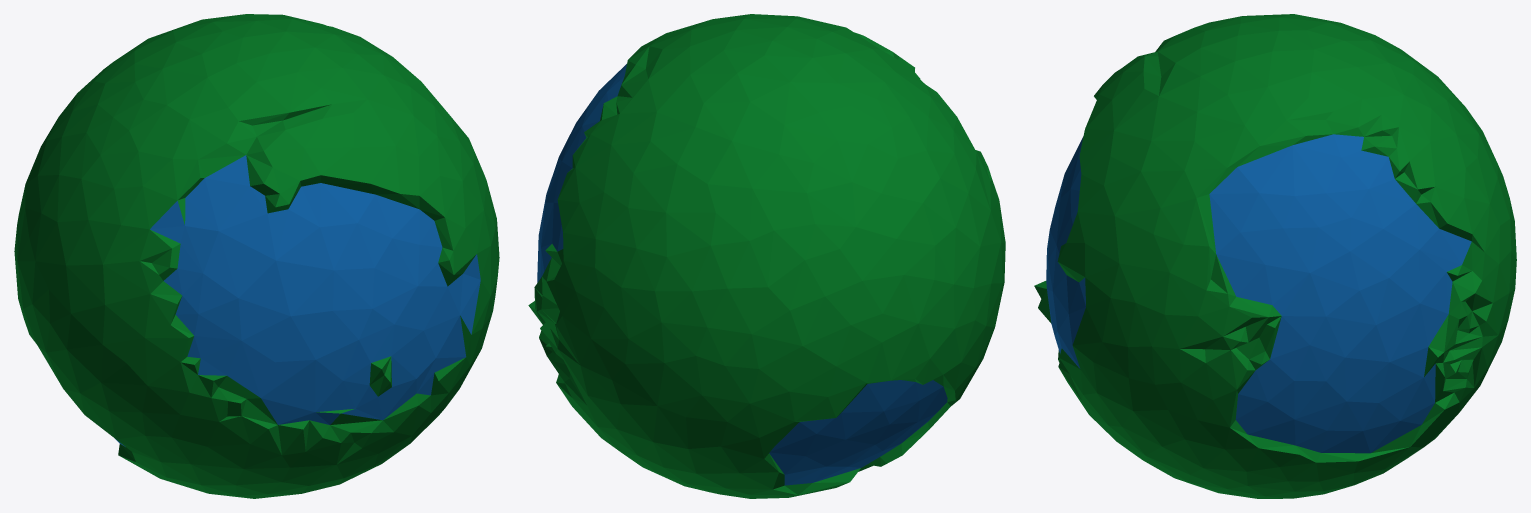
The model's file is Planet 12.FBX.
3 renders of one model, left to right at view 1: azimuth 30°, elevation 25°; view 2: azimuth 150°, elevation 25°; view 3: azimuth 270°, elevation 25°, orthographic.
Visible parts, largest first — view 1: Planet 12; view 2: Planet 12; view 3: Planet 12.
Boxes of the visible parts, x1,y1,x2,y2 form: Planet 12: (14, 14, 499, 498); Planet 12: (528, 14, 1005, 498); Planet 12: (1034, 14, 1516, 498).
Bounding box in the file's own units: 218 × 219 × 218.
